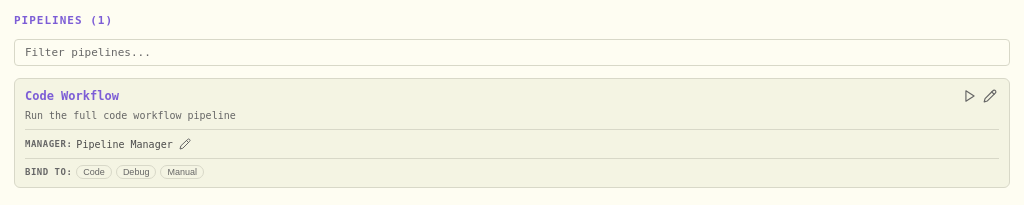
Test: PipelinesPanel › pipeline bindings UI › renders a 'Default: <mode>' badge when the pipeline is bound
Expected: the text "Code Workflow" is shown, [25, 89, 119, 103]
Bind to populate cache (synthetically — clicking surfaces it via the canonical reload).
Click the button with aria-label "Bind code-workflow to Code mode" at coordinates (94, 172), box [76, 165, 112, 179]
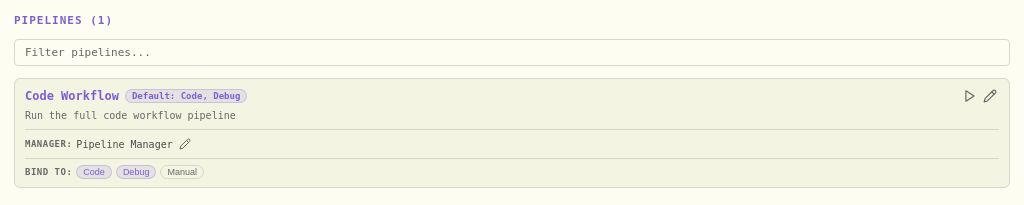
Expected: the text named "Default for modes" shows "Code", [181, 91, 240, 101]
Expected: the text named "Default for modes" shows "Debug", [181, 91, 240, 101]
